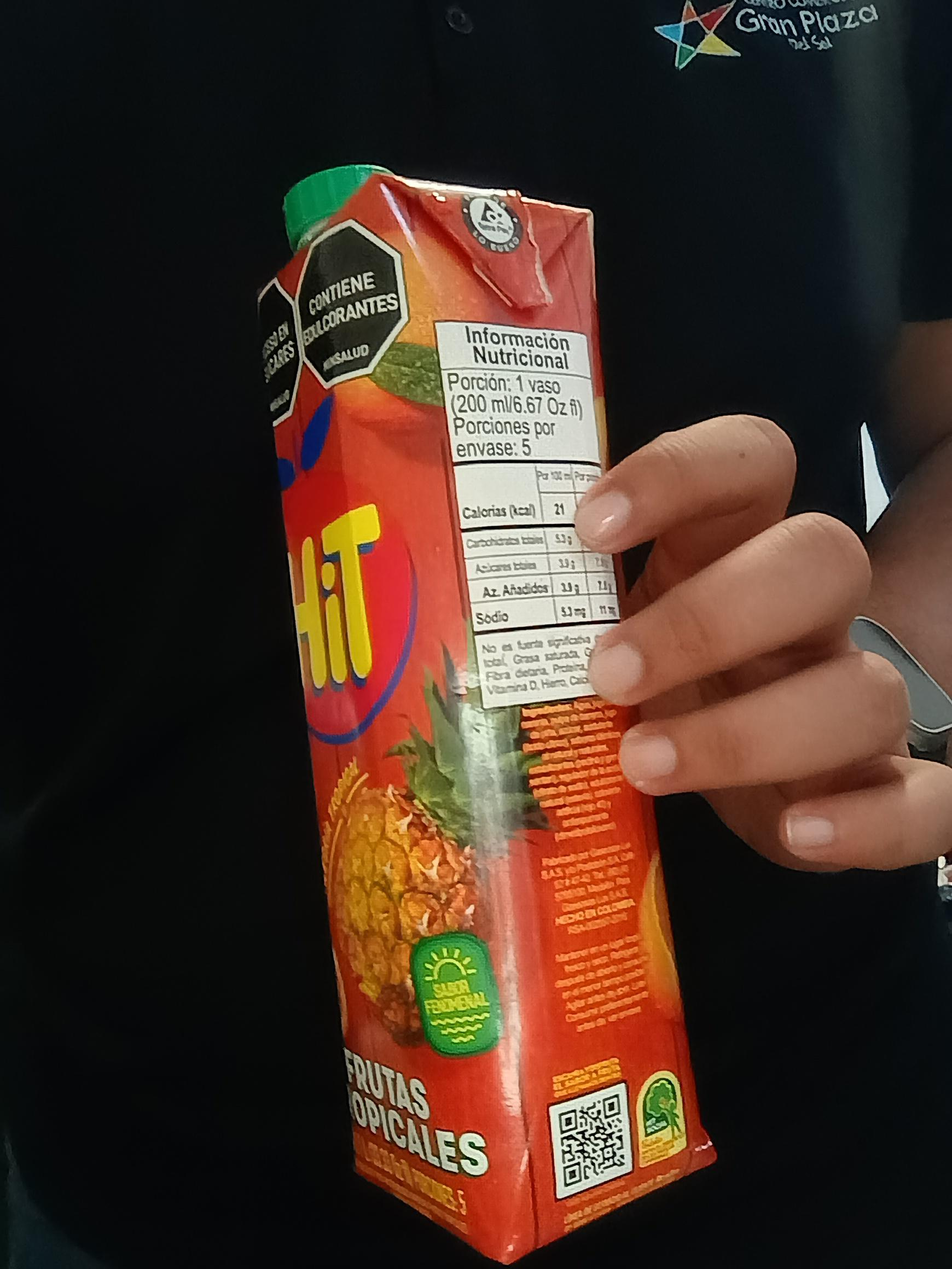Carton: (260, 175, 724, 1267)
